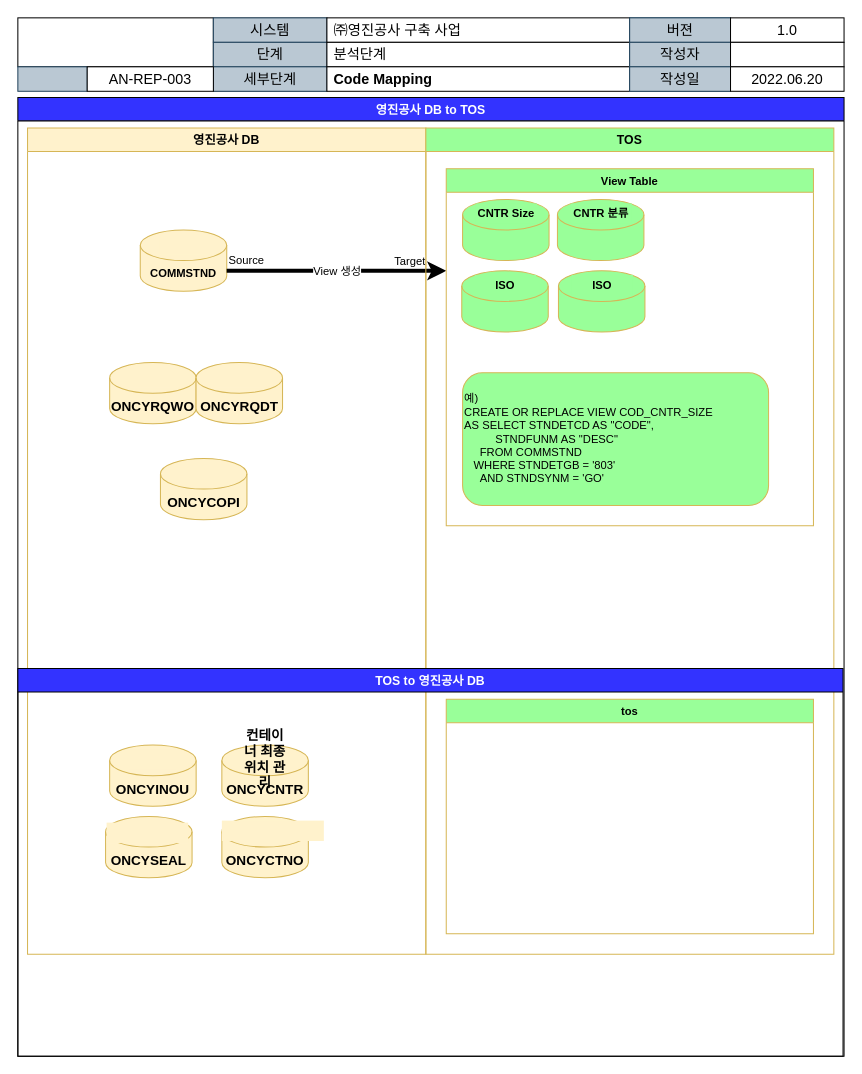
This 862x1074 diagram has some shape labels left out. Here are the shapes that lost their labels. From the top down, the centre of each, then its label:
At (x=115, y=42): "Process 정의서".
At (x=787, y=54): "박철규".
At (x=52, y=78): "문서번호".
At (x=183, y=244): "코드".
At (x=152, y=376): "BKG Master".
At (x=239, y=376): "BKG Detail".
At (x=203, y=472): "COPINO".
At (x=152, y=759): "반출입 내역".
At (x=147, y=832): "운송요청정보 수출".
At (x=272, y=830): "하선세부내역 정보 수입".
